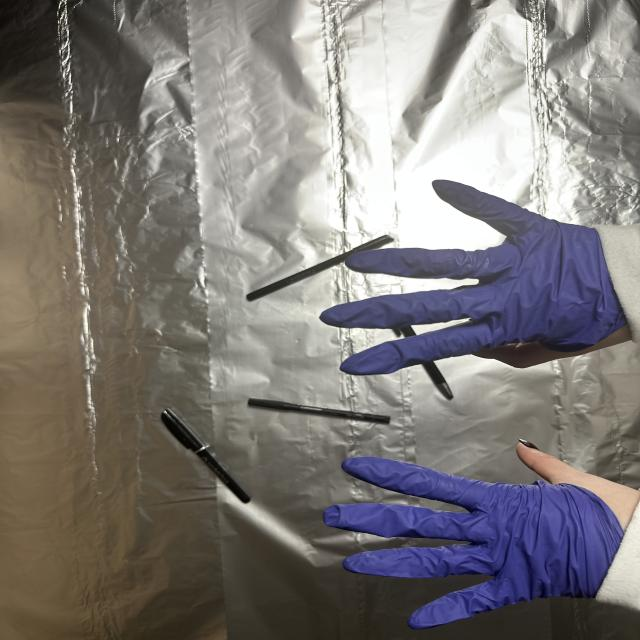glove_partial: (318, 175, 630, 377), (318, 435, 640, 624)
